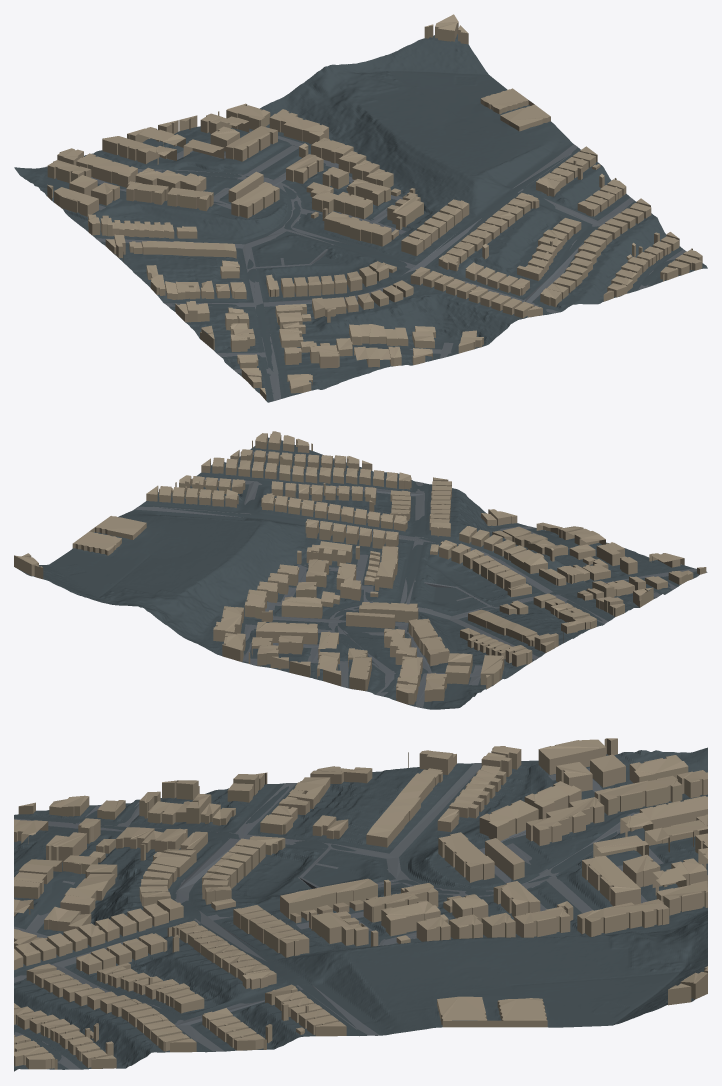
File: epsg26910-1430-10868.lod0.glb
The picture shows the model from 3 angles, top to bottom: view 1: azimuth 30°, elevation 25°; view 2: azimuth 150°, elevation 25°; view 3: azimuth 270°, elevation 25°; orthographic projection. The views are drawn at different scales.
Visible parts, largest first — view 1: epsg26910-1430-10868-lod0; view 2: epsg26910-1430-10868-lod0; view 3: epsg26910-1430-10868-lod0.
Boxes of the visible parts, x1,y1,x2,y2 form: epsg26910-1430-10868-lod0: (14,14,707,402); epsg26910-1430-10868-lod0: (14,431,707,709); epsg26910-1430-10868-lod0: (14,738,707,1071).
Bounding box in the file's own units: 384 × 79.76 × 384.
